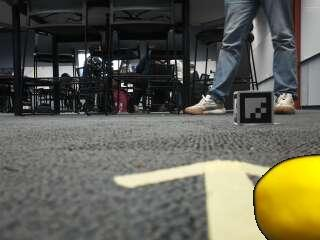lemon: (256, 154, 320, 239)
